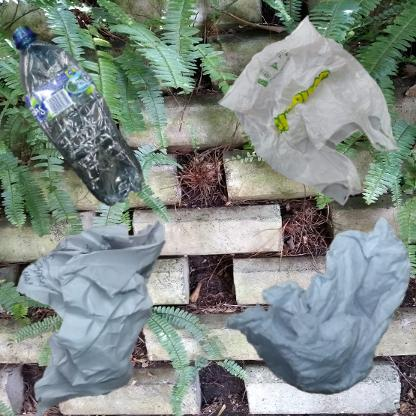bolsa: (213, 10, 405, 213)
botella: (10, 10, 157, 233)
papel: (213, 213, 416, 412), (10, 213, 183, 416)
